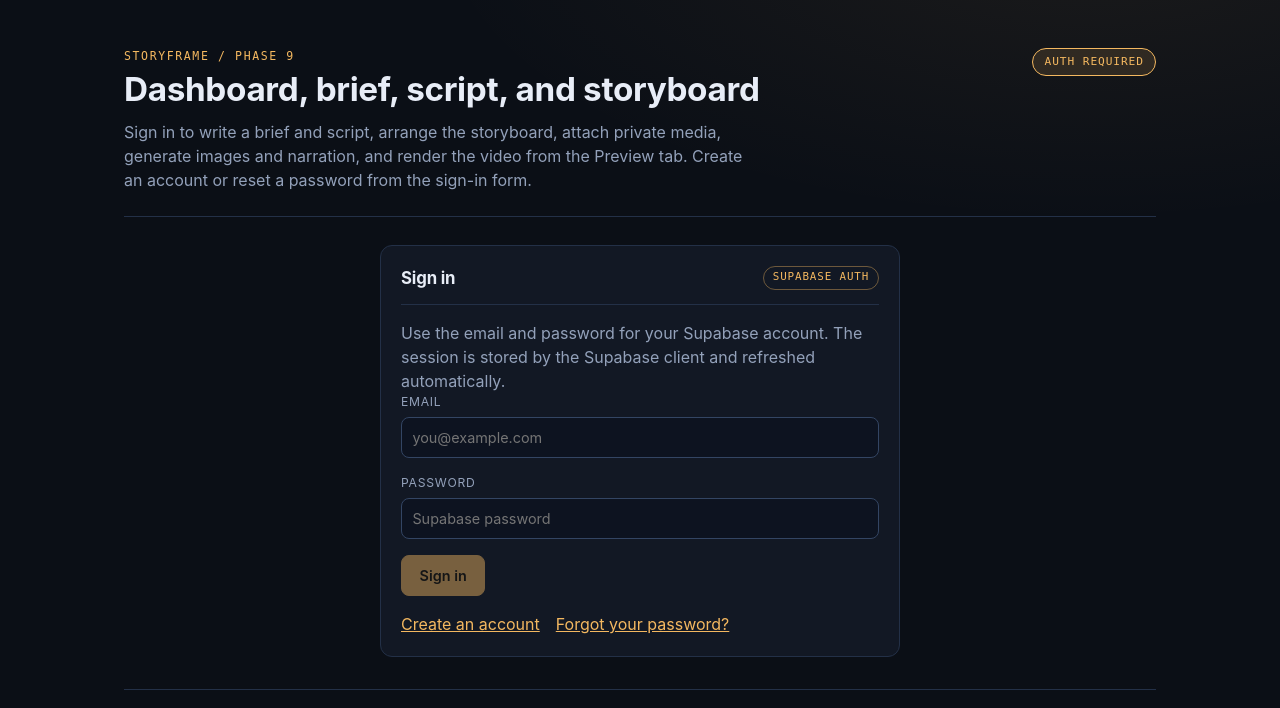
Test: App authentication › signs in with email and password, shows the signed-in user, and signs out
The width and height of the screenshot is (1280, 708).
Check: the heading "Sign in" is shown, box x1=401 y1=268 x2=455 y2=288
Type "ada@example.com" into the field labelled "Email" at (640, 438), box x1=401 y1=417 x2=879 y2=458
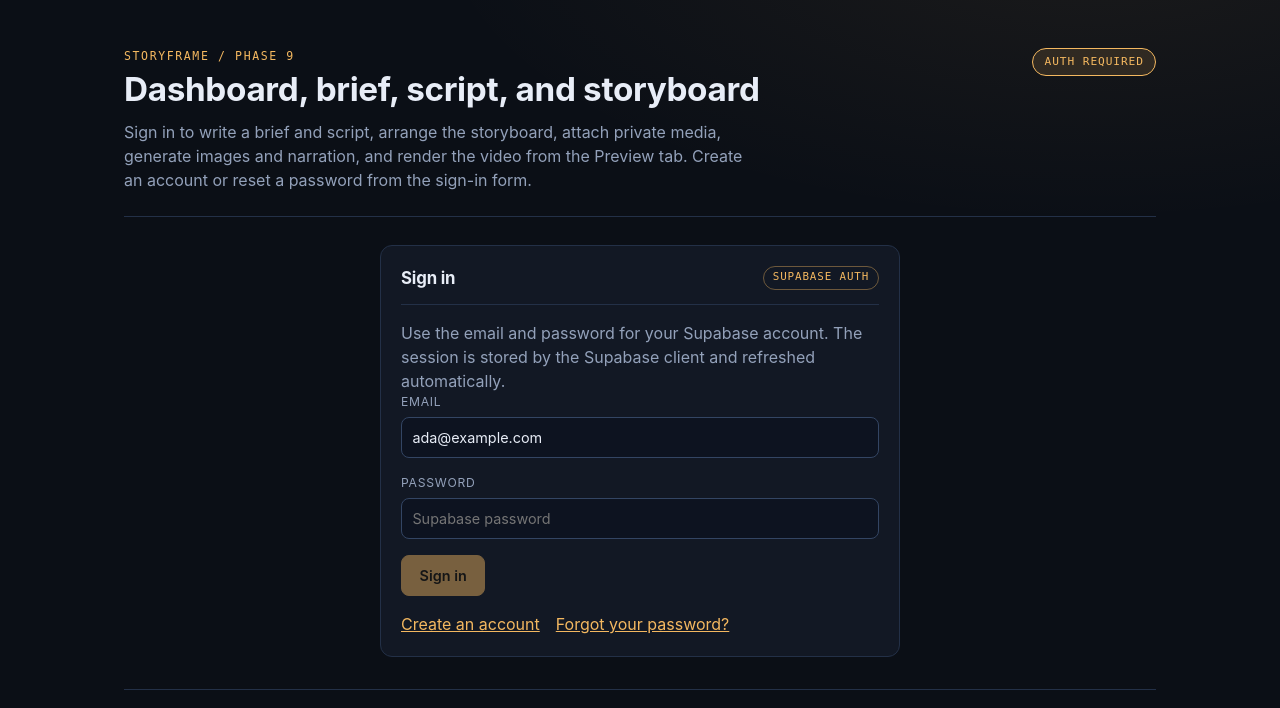
Type "correct horse battery staple" into the password field labelled "Password" at (640, 518), box x1=401 y1=498 x2=879 y2=539
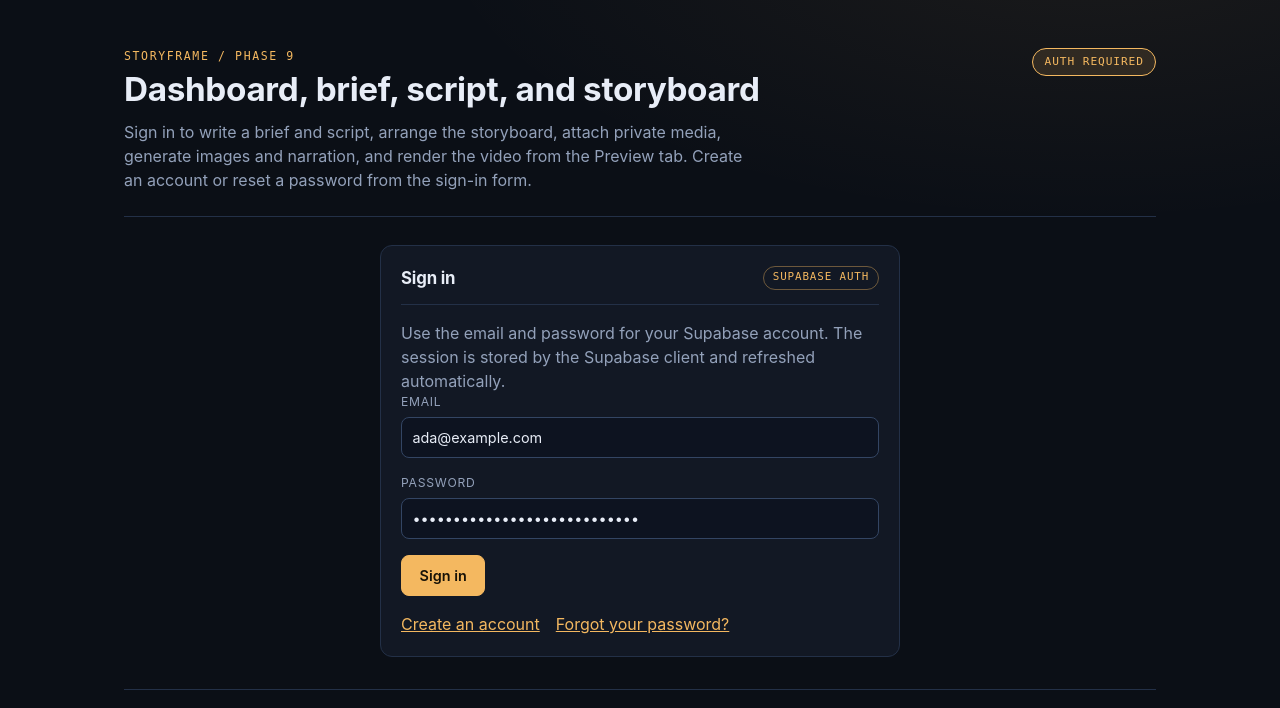
Click the button "Sign in" at (443, 576), box x1=401 y1=555 x2=485 y2=596
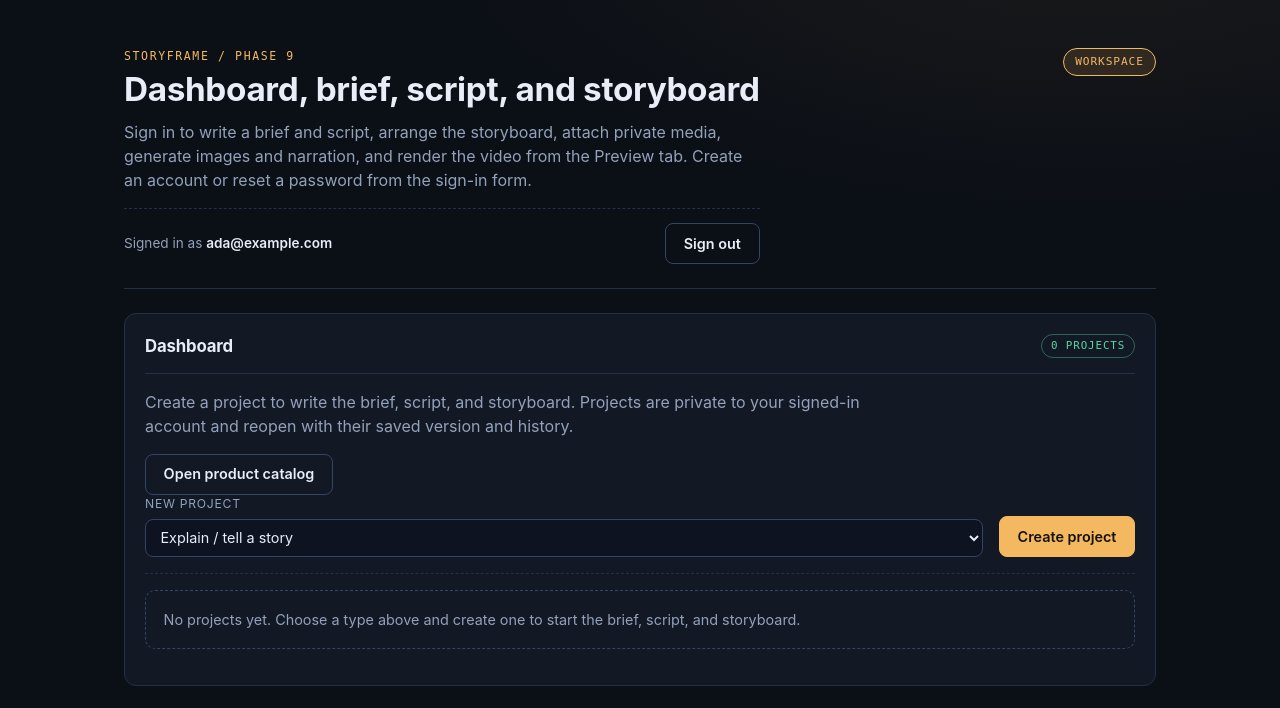
Check: the text "ada@example.com" is shown, box x1=206 y1=235 x2=332 y2=251
Click the button "Sign out" at (712, 244), box x1=665 y1=223 x2=760 y2=264
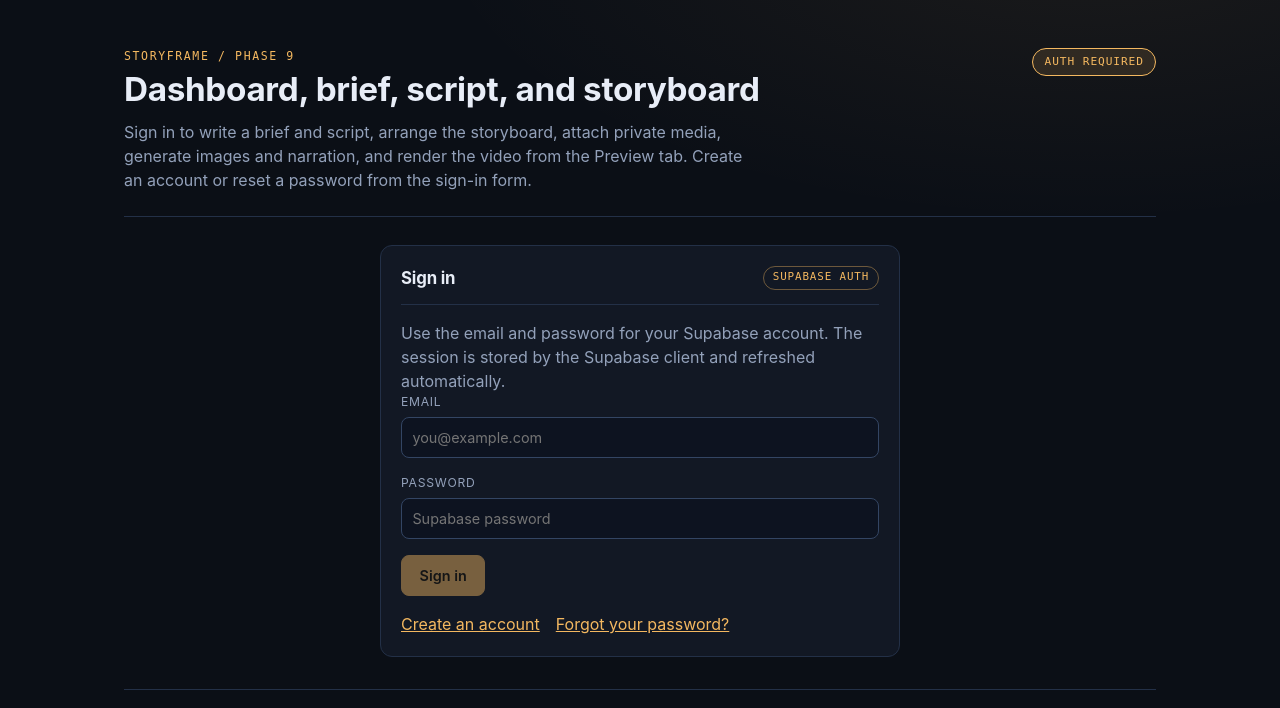
Check: the heading "Sign in" is shown, box x1=401 y1=268 x2=455 y2=288
